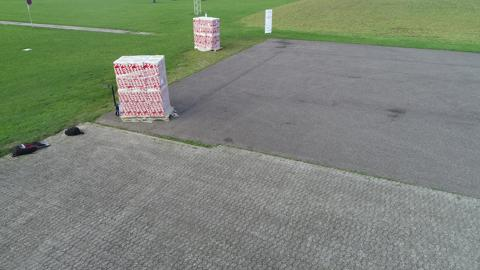RockwoolPallet: (191, 17, 220, 52)
